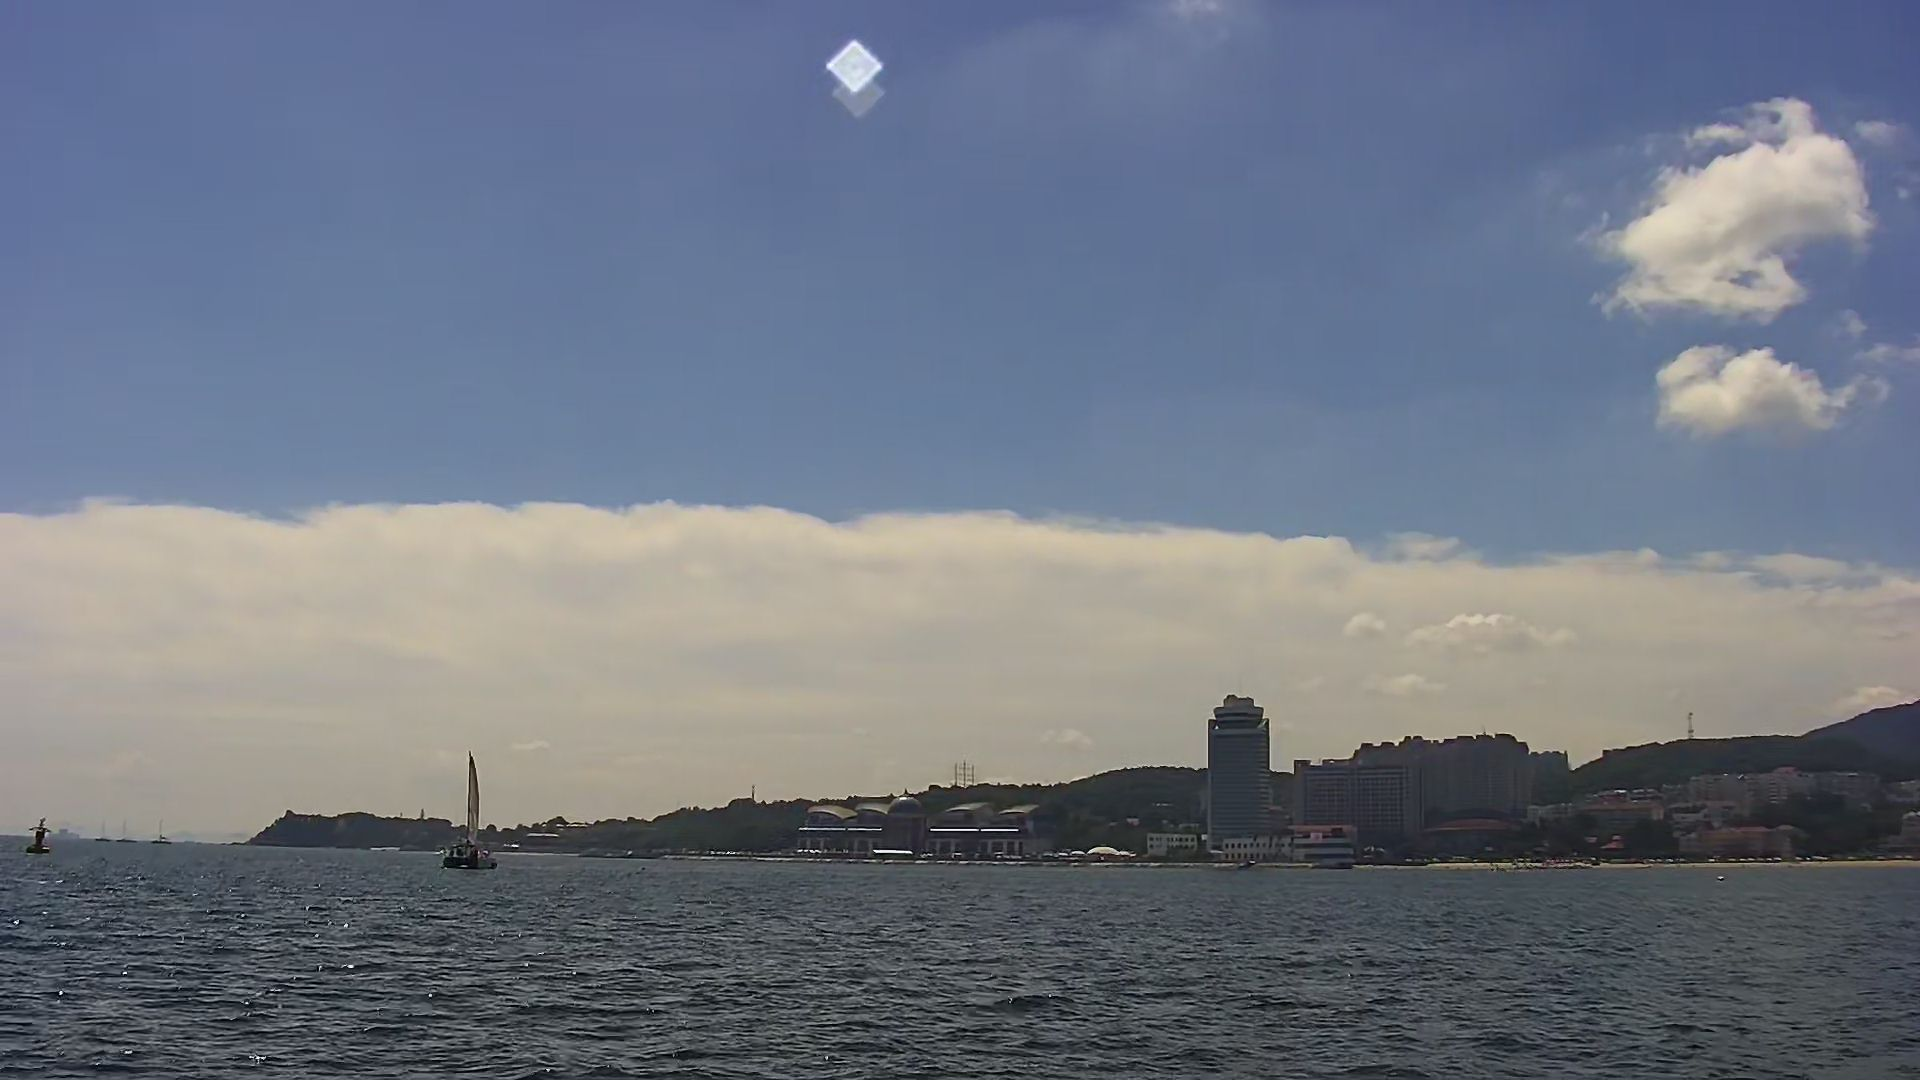boat: (440, 744, 497, 874)
buoy: (21, 820, 53, 853)
